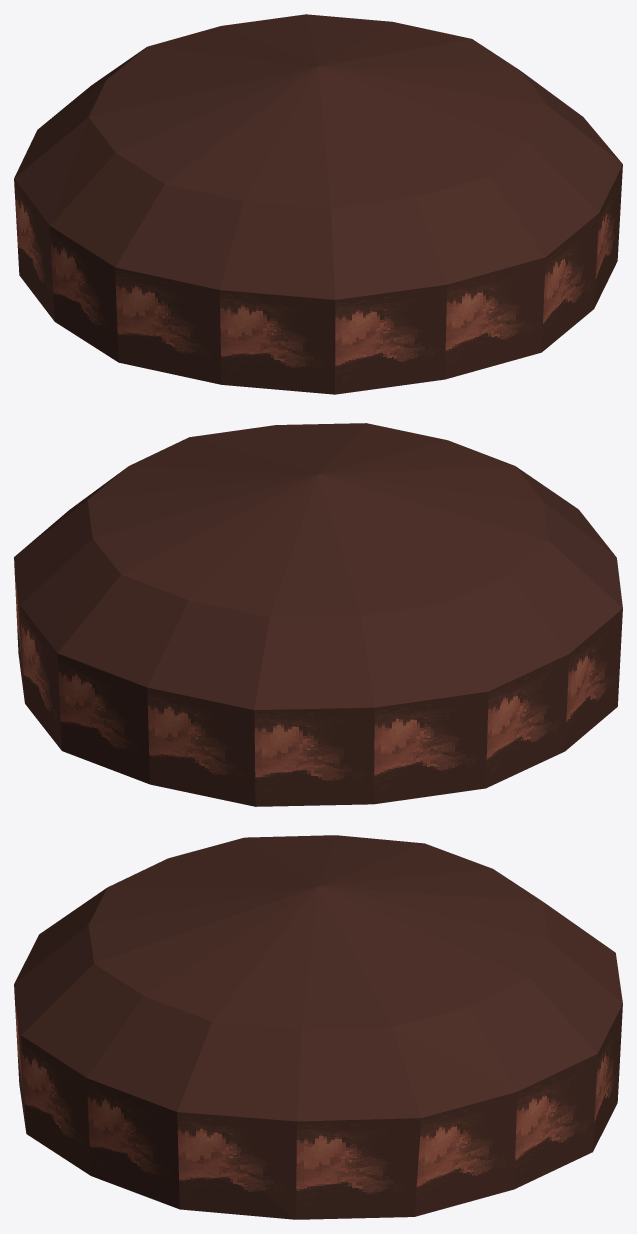
The picture shows the model from 3 angles, top to bottom: view 1: azimuth 30°, elevation 25°; view 2: azimuth 150°, elevation 25°; view 3: azimuth 270°, elevation 25°; orthographic projection. The views are drawn at different scales.
Visible parts, largest first — view 1: mesh00; view 2: mesh00; view 3: mesh00.
Boxes of the visible parts, x1=… form: mesh00: x1=14, y1=14, x2=622, y2=394; mesh00: x1=14, y1=423, x2=622, y2=806; mesh00: x1=14, y1=835, x2=622, y2=1219.
Bounding box in the file's own units: 89689 × 46281 × 90064.
